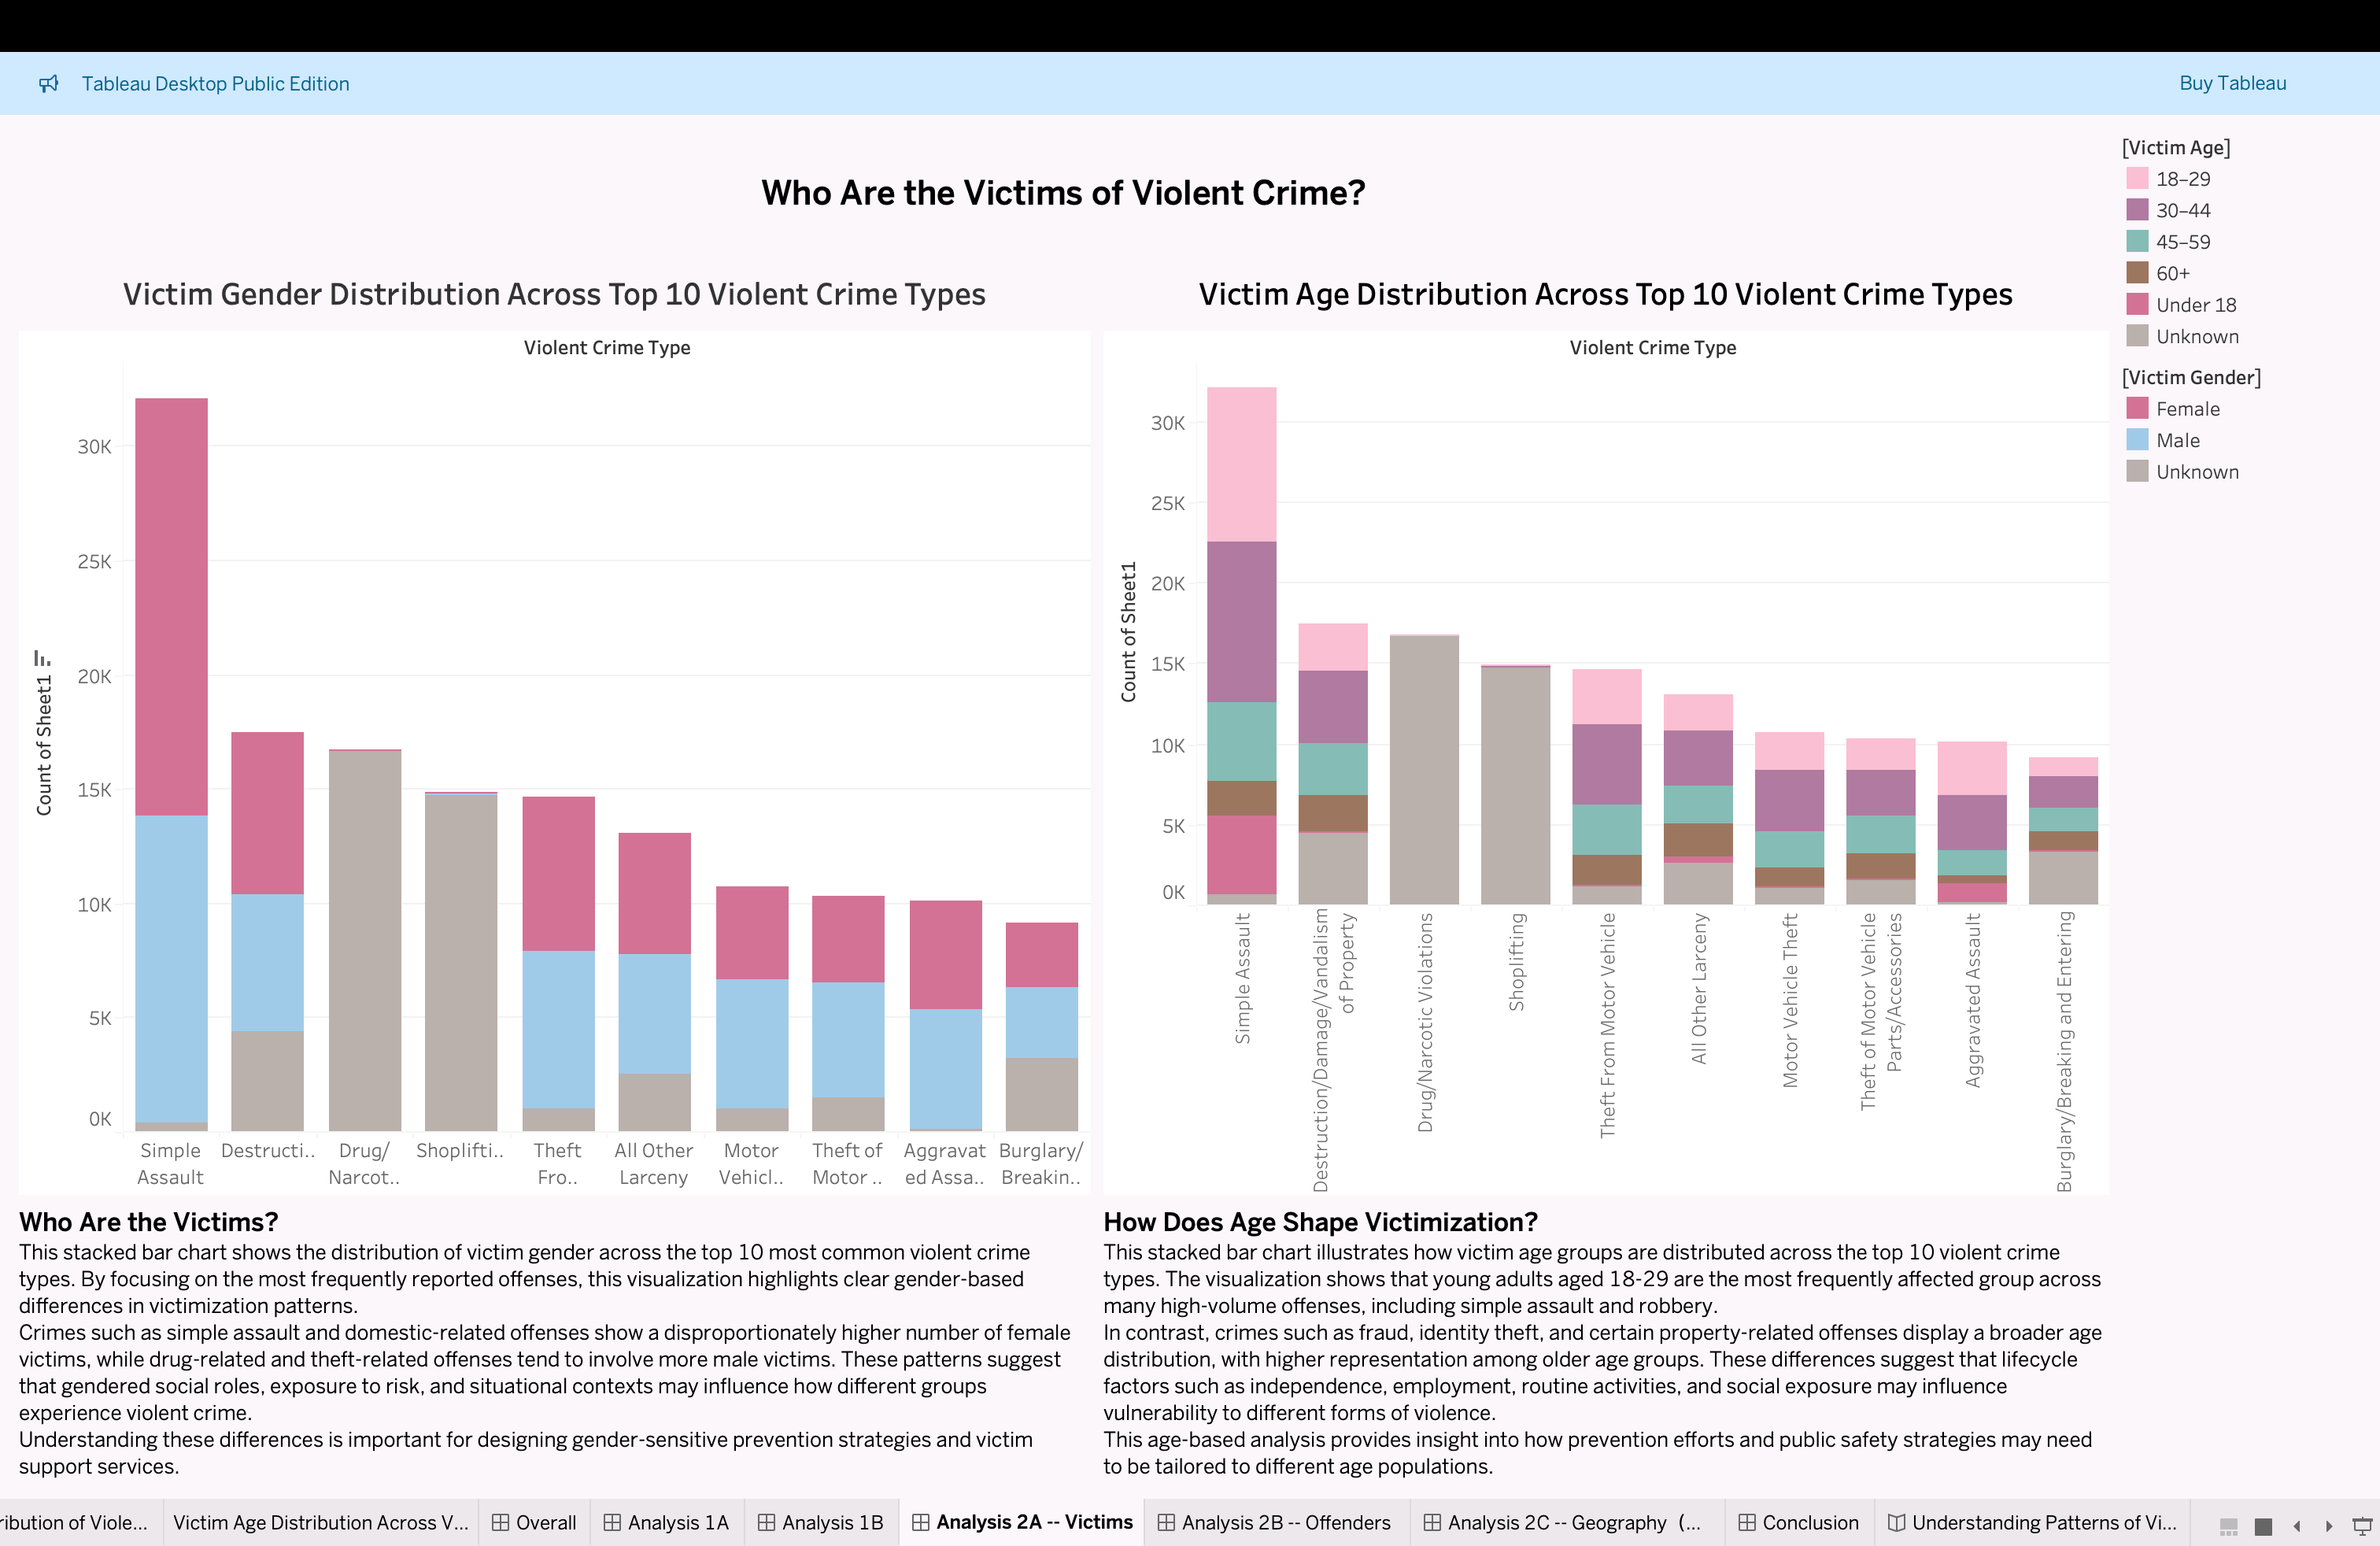

Layout of this report page (visuals, bound fields, positions):
{"tool":"tableau","page":{"name":"Analysis 2A -- Victims","canvas":[1000,1000],"units":"permille","ordinal":2},"visuals":[{"type":"text","box":[5.3,9.1,883.6,96.1]},{"type":"legend","title":"Victim Age Distribution Across Violent Crime Types（Top 10）","param":"[federated.1p1e0dx1s247zc1csf53d0xrrefi].[none:Calculation_2021694031926304769:n","box":[888.9,9.1,105.8,166.8]},{"type":"worksheet","title":"Victim Gender Distribution Across Top 10 Violent Crime Types","mark":"Bar","rows":["Sheet1_C70B4A50ED87482583BFEB3E06CA7164"],"cols":["ViolentCrimeType"],"box":[5.3,105.2,455.5,885.7]},{"type":"worksheet","title":"Victim Age Distribution Across Violent Crime Types（Top 10）","mark":"Bar","rows":["Sheet1_C70B4A50ED87482583BFEB3E06CA7164"],"cols":["ViolentCrimeType"],"box":[460.8,105.2,428.1,885.7]},{"type":"legend","title":"Victim Gender Distribution Across Top 10 Violent Crime Types","param":"[federated.1p1e0dx1s247zc1csf53d0xrrefi].[none:Calculation_1882012074307919875:n","box":[888.9,176,105.8,98.3]}]}

Visuals, with their boxes on the dashboard's canvas, which has no fixed pixel size, in thousandths of its width and height (x1, y1, x2, y2). These are canvas units, not pixel positions in the 2380x1546 screenshot, which may show the page scaled, cropped or inside an application window:
text: bbox=(5, 9, 889, 105)
"Victim Age Distribution Across Violent Crime Types（Top 10）" legend: bbox=(889, 9, 995, 176)
"Victim Gender Distribution Across Top 10 Violent Crime Types" worksheet (Bar marks): bbox=(5, 105, 461, 991)
"Victim Age Distribution Across Violent Crime Types（Top 10）" worksheet (Bar marks): bbox=(461, 105, 889, 991)
"Victim Gender Distribution Across Top 10 Violent Crime Types" legend: bbox=(889, 176, 995, 274)
